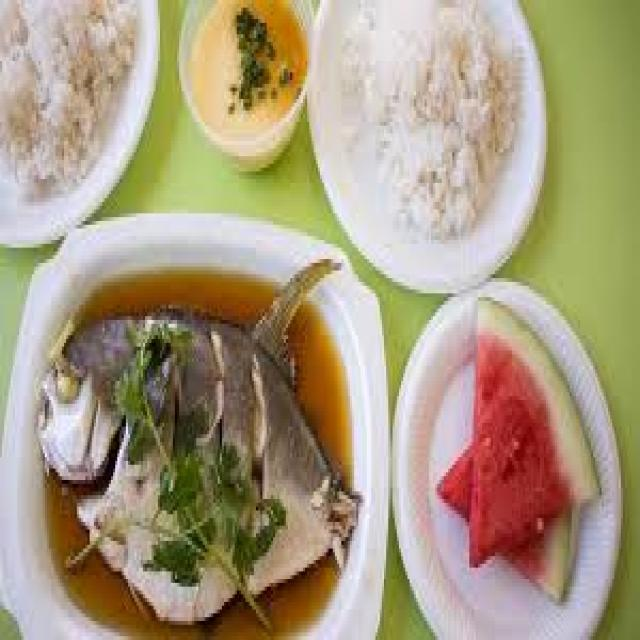Egg: (188, 0, 305, 133)
Fish: (36, 267, 356, 617)
Fruits: (439, 301, 597, 594)
Rice: (341, 0, 518, 236), (0, 0, 134, 187)
